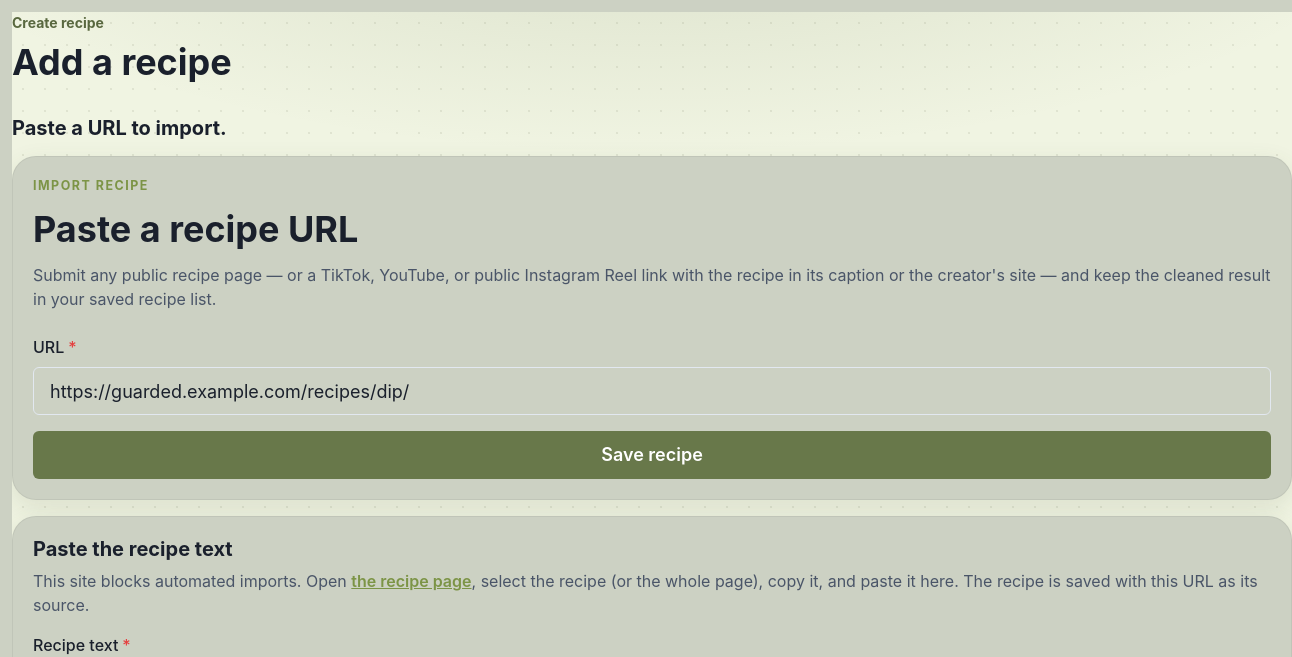
Scenario: RecipeCreatePage paste-text import › drops the paste-text form once the URL is changed
Replace the text in the field labelled "URL*" with "https://example.com/other" at (652, 391), box [33, 367, 1271, 415]
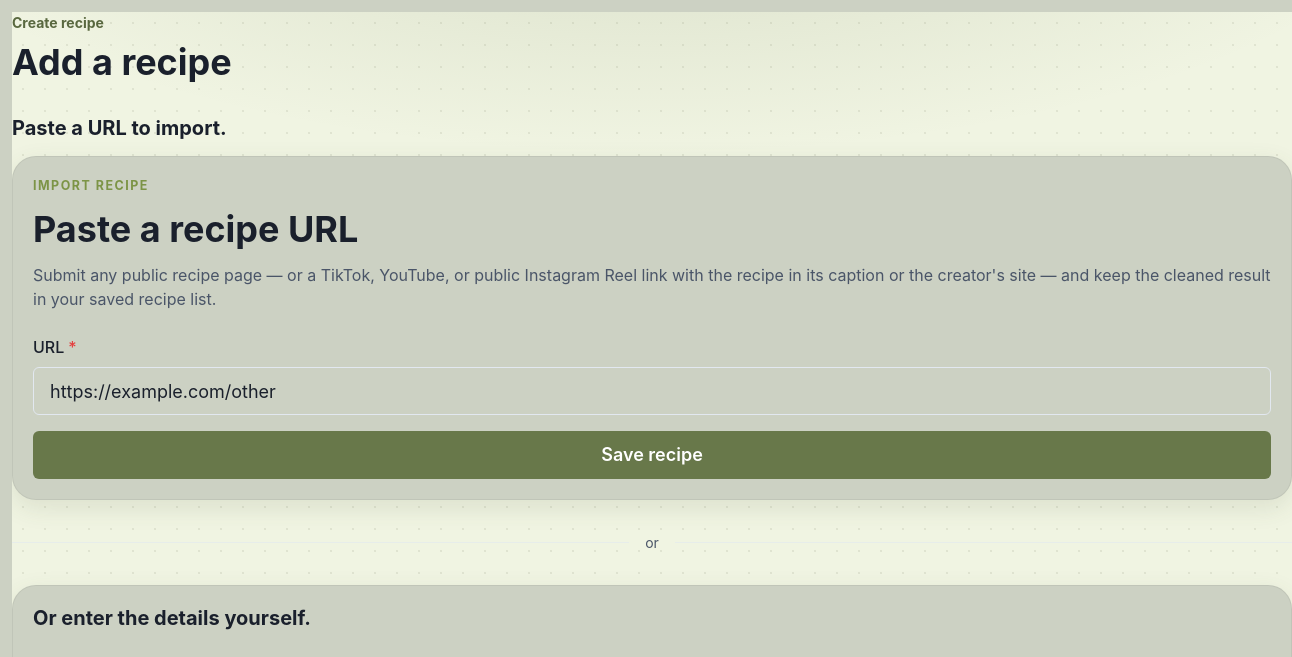
Expected: the heading labelled "recipe text" is gone
